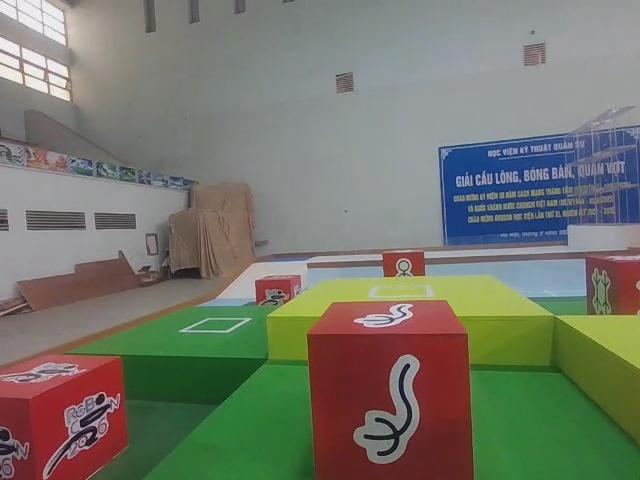R1: (0, 355, 133, 479), (257, 272, 302, 308)
R2 Real: (307, 298, 472, 479), (588, 254, 640, 318)
